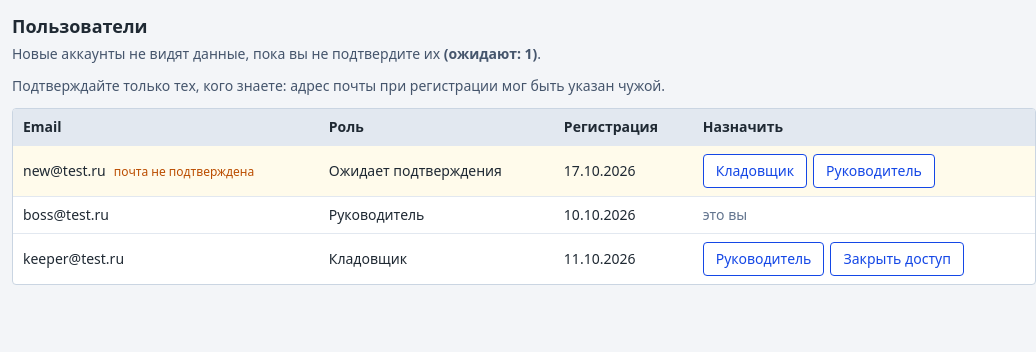
UsersPage › shows the database refusal and keeps the list
Step 1. Click the button with aria-label "Кладовщик: new@test.ru" → {"x": 755, "y": 171}, box [703, 154, 807, 188]
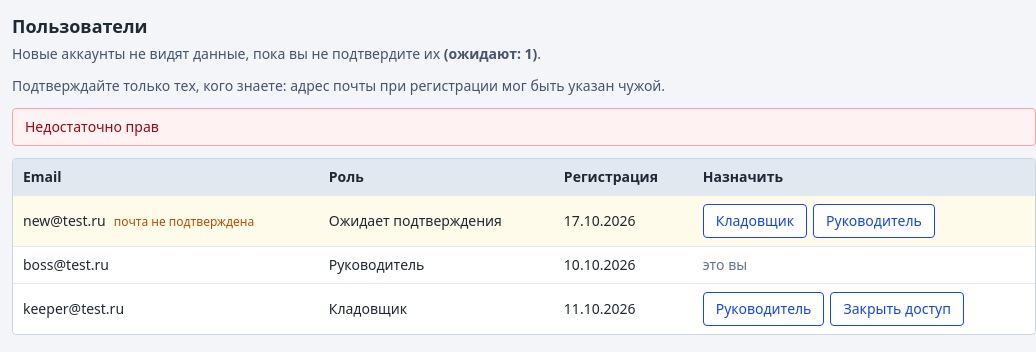
Expected: the text "new@test.ru" is shown, [23, 211, 106, 230]
Result: the message reads "Недостаточно прав" at [25, 117, 159, 136]
